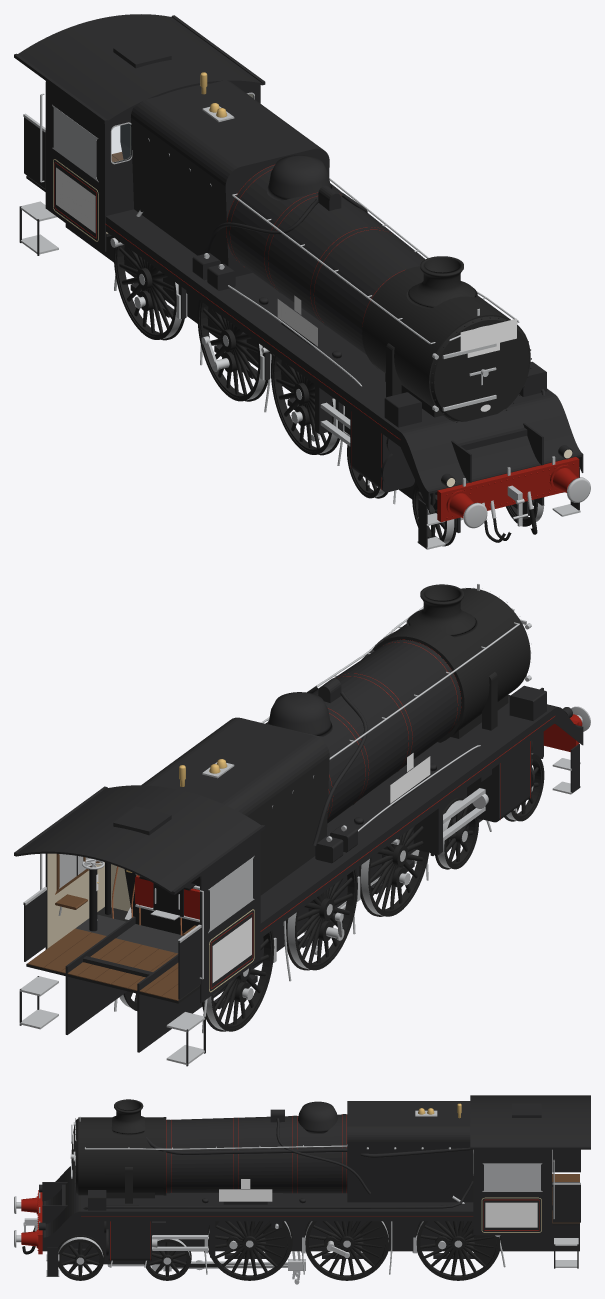
Rendered from engine_lod0.glb.
3 renders of one model, top to bottom at view 1: azimuth 30°, elevation 25°; view 2: azimuth 150°, elevation 25°; view 3: azimuth 270°, elevation 25°, orthographic. The views are drawn at different scales.
Visible parts, largest first — view 1: engine_static_paint_black, engine_static_smokebox, engine_static_steel, engine_static_paint_red, ws_trail_wheel, ws_drive_wheel, ws_lead_wheel, engine_static_decal_cabnum, engine_static_lining_red, engine_static_decal_headboard, cab_gate_R_paint_black, ws_bogieFront_wheel (+1 smaller); view 2: engine_static_paint_black, engine_static_smokebox, engine_static_steel, cab_static_wood, ws_drive_wheel, cab_static_cab_inside, ws_lead_wheel, ws_trail_wheel, cab_static_backhead, cab_static_chequer, engine_static_decal_cabnum, ws_bogieRear_wheel (+8 smaller); view 3: engine_static_paint_black, engine_static_smokebox, engine_static_steel, ws_drive_wheel, ws_lead_wheel, ws_trail_wheel, engine_static_decal_cabnum, ws_bogieFront_wheel, engine_static_lining_red, cab_gate_L_paint_black, ws_bogieRear_wheel, engine_static_paint_red (+6 smaller).
Boxes of the visible parts, x1,y1,x2,y2 form: engine_static_paint_black: (14, 14, 583, 548); engine_static_smokebox: (26, 175, 531, 422); engine_static_steel: (20, 92, 590, 549); engine_static_paint_red: (437, 457, 579, 522); ws_trail_wheel: (114, 240, 186, 340); ws_drive_wheel: (197, 300, 267, 401); ws_lead_wheel: (271, 355, 339, 455); engine_static_decal_cabnum: (56, 167, 95, 233); engine_static_lining_red: (54, 162, 404, 489); engine_static_decal_headboard: (460, 318, 516, 351); cab_gate_R_paint_black: (24, 117, 45, 188); ws_bogieFront_wheel: (412, 483, 544, 546); engine_static_paint_black: (14, 629, 583, 1066); engine_static_smokebox: (26, 584, 530, 1003); engine_static_steel: (19, 584, 590, 1064); cab_static_wood: (27, 854, 196, 1000); ws_drive_wheel: (285, 869, 357, 970); cab_static_cab_inside: (47, 853, 130, 948); ws_lead_wheel: (359, 825, 429, 916); ws_trail_wheel: (123, 907, 274, 1031); cab_static_backhead: (89, 862, 199, 934); cab_static_chequer: (75, 914, 182, 953); engine_static_decal_cabnum: (212, 917, 251, 982); ws_bogieRear_wheel: (435, 798, 478, 869); engine_static_paint_black: (39, 1095, 590, 1276); engine_static_smokebox: (71, 1099, 579, 1225); engine_static_steel: (14, 1110, 578, 1276); ws_drive_wheel: (305, 1221, 390, 1280); ws_lead_wheel: (207, 1221, 292, 1280); ws_trail_wheel: (416, 1221, 501, 1280); engine_static_decal_cabnum: (485, 1202, 537, 1227); ws_bogieFront_wheel: (58, 1235, 104, 1280); engine_static_lining_red: (81, 1114, 539, 1260); cab_gate_L_paint_black: (552, 1185, 580, 1222); ws_bogieRear_wheel: (143, 1239, 191, 1280); engine_static_paint_red: (21, 1190, 42, 1254).
Size of the model in its own units: 2.82 by 4.43 by 12.64.
